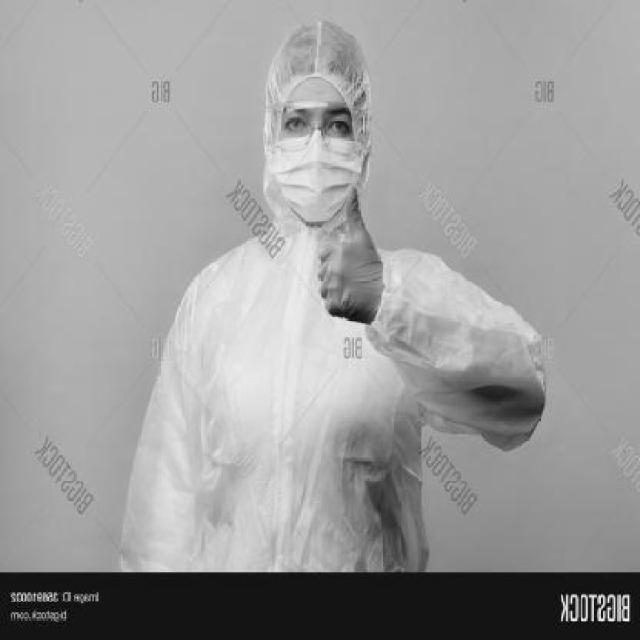face_mask: (271, 110, 357, 210)
glasses: (270, 97, 368, 161)
hand_glove: (305, 187, 390, 324)
head_nohelmet: (256, 9, 376, 100)
person: (104, 16, 522, 576)
